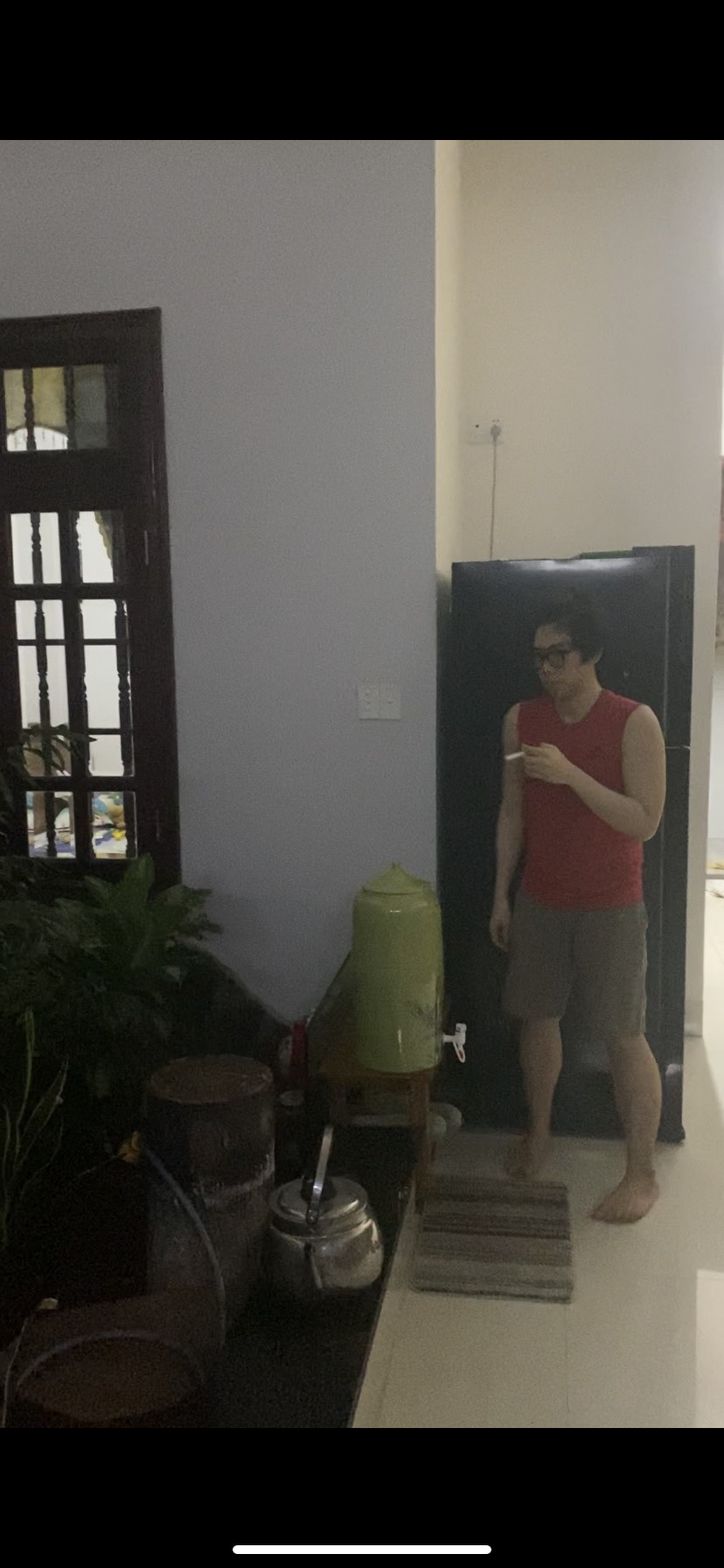cigarette: (499, 746, 529, 766)
person: (494, 592, 674, 1234)
